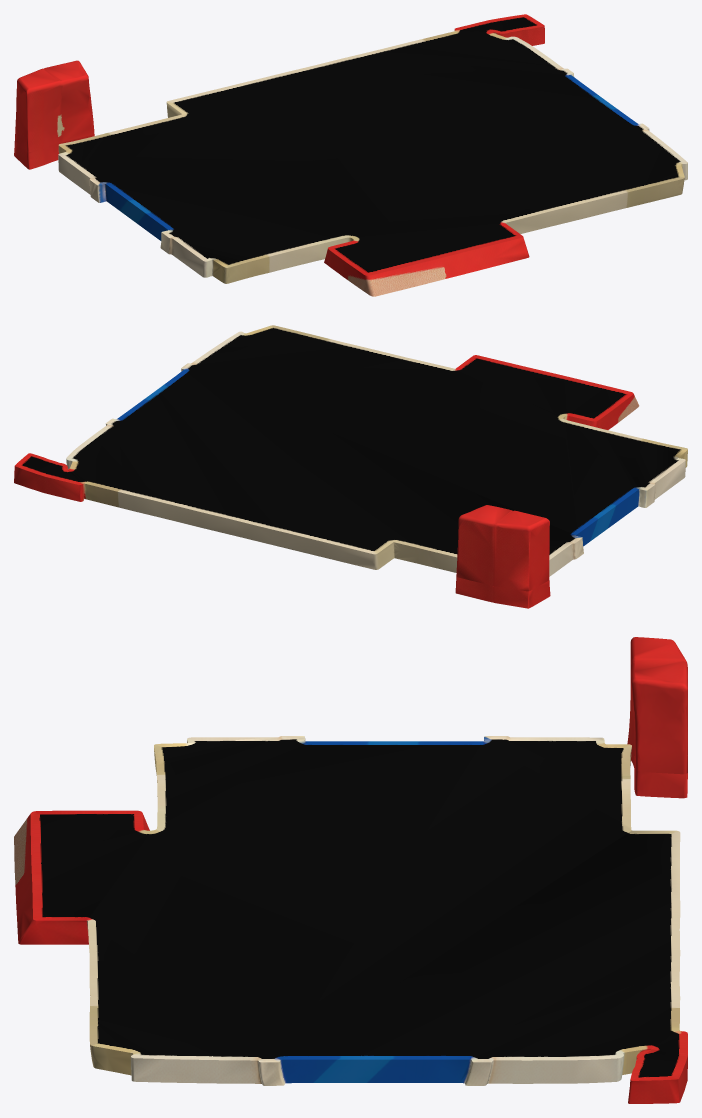
File: 7-roof.fbx
The picture shows the model from 3 angles, top to bottom: view 1: azimuth 30°, elevation 25°; view 2: azimuth 150°, elevation 25°; view 3: azimuth 270°, elevation 25°; orthographic projection. The views are drawn at different scales.
Parts seen in each view (by area): view 1: roof; view 2: roof; view 3: roof.
Part boxes in pixels (left/top/right/bottom): roof: left=14, top=14, right=687, bottom=296; roof: left=14, top=325, right=687, bottom=608; roof: left=14, top=637, right=687, bottom=1103.
Size of the model in its own units: 8267 by 1204 by 6577.
1 material, 1 textured.
